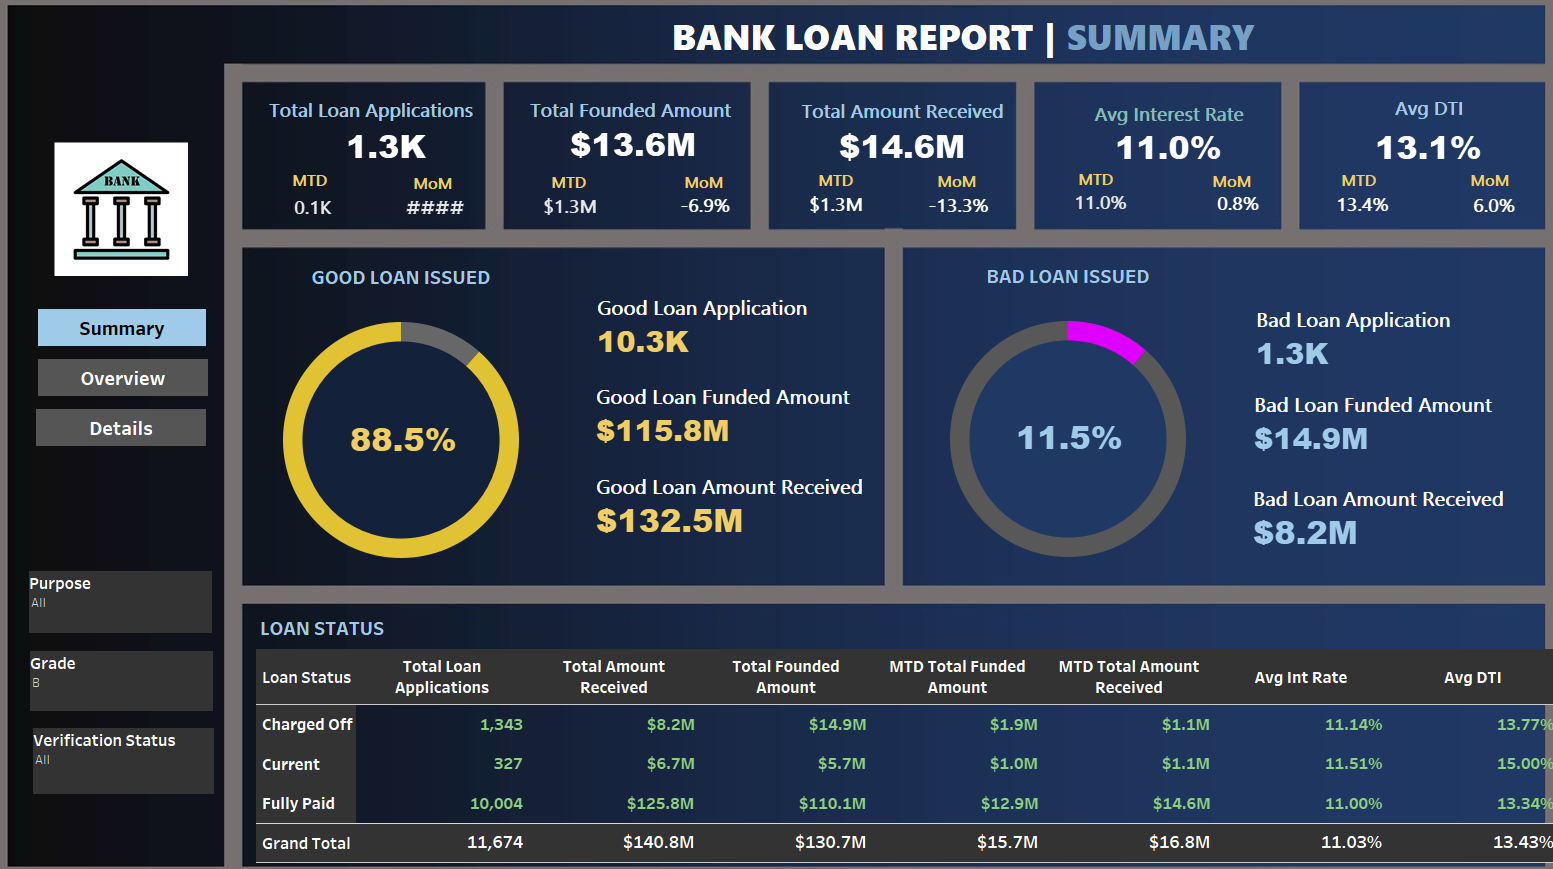

The page's visual inventory and layout, read from the dashboard file:
{"tool":"tableau","page":{"name":"SUMMARY","canvas":[1600,900],"ordinal":2},"visuals":[{"type":"image","param":"D:/SummerSlam/GitHub Projects/Bank-Loan/Images/Tableau Background 1.jpg","box":[8,8,1584,884]},{"type":"text","box":[683,21,715,57]},{"type":"worksheet","title":"Avg DTI","mark":"Automatic","box":[1372,102,142,77]},{"type":"worksheet","title":"Total Loan Applications","mark":"Automatic","box":[279,104,242,71]},{"type":"worksheet","title":"Total Founded Amount","mark":"Automatic","box":[540,104,216,68]},{"type":"worksheet","title":"Total Amount Received","mark":"Automatic","box":[785,105,263,70]},{"type":"worksheet","title":"Avg Interest Rate","mark":"Automatic","box":[1036,108,294,66]},{"type":"image","param":"C:/Users/Mohammed/Desktop/bank-vector-icon.jpg","box":[68,156,134,145]},{"type":"worksheet","title":"MoM Avg DTI","mark":"Automatic","box":[1453,176,111,85]},{"type":"text","box":[1079,180,61,25]},{"type":"text","box":[293,181,61,25]},{"type":"text","box":[819,181,61,25]},{"type":"worksheet","title":"MoM Avg INT Rate","mark":"Automatic","box":[1202,181,100,71]},{"type":"text","box":[1342,181,61,25]},{"type":"text","box":[1473,181,61,25]},{"type":"text","box":[940,182,61,25]},{"type":"text","box":[1215,182,61,25]},{"type":"text","box":[552,183,61,25]},{"type":"text","box":[687,183,61,25]},{"type":"text","box":[416,184,61,25]},{"type":"worksheet","title":"MoM Total Amount Received ","mark":"Automatic","box":[932,186,81,65]},{"type":"worksheet","title":"MTD Avg DTI","mark":"Automatic","box":[1315,186,123,63]},{"type":"worksheet","title":"MoM Total Loan Applications","mark":"Automatic","box":[413,187,73,72]},{"type":"worksheet","title":"MTD Total Loan Applications","mark":"Automatic","box":[273,189,108,64]},{"type":"worksheet","title":"MoM Total Funded Amount","mark":"Automatic","box":[666,189,107,60]},{"type":"worksheet","title":"MTD Total Amount Received","mark":"Automatic","box":[808,190,84,56]},{"type":"worksheet","title":"MTD Total Funded Amount","mark":"Automatic","box":[538,192,93,56]},{"type":"worksheet","title":"MTD Avg INT Rate","mark":"Automatic","box":[1069,198,92,35]},{"type":"worksheet","title":"Bad Loan Issued ","mark":"Pie","rows":["Calculation_467248493944659969","Calculation_467248493944659969"],"box":[932,270,300,325]},{"type":"worksheet","title":"Good Loan Issued","mark":"Pie","rows":["Calculation_467248493944659969","Calculation_467248493944659969"],"box":[265,271,300,325]},{"type":"worksheet","title":"Good Loan Application","mark":"Automatic","box":[603,297,300,75]},{"type":"worksheet","title":"Bad Loan Application ","mark":"Automatic","box":[1262,309,300,75]},{"type":"dashboard-object","box":[52,323,168,37]},{"type":"dashboard-object","box":[52,373,170,37]},{"type":"worksheet","title":"Good Loan Funded Amount","mark":"Automatic","box":[602,386,300,75]},{"type":"worksheet","title":"Bad Loan Funded Amount ","mark":"Automatic","box":[1260,394,300,75]},{"type":"worksheet","title":"Good Loan Application %","mark":"Automatic","box":[358,398,119,111]},{"type":"worksheet","title":"Bad Loan Application %","mark":"Automatic","box":[1025,398,117,106]},{"type":"dashboard-object","box":[50,423,170,37]},{"type":"worksheet","title":"Good Loan Amount Received","mark":"Automatic","box":[602,476,300,75]},{"type":"worksheet","title":"Bad Loan Amount Received ","mark":"Automatic","box":[1259,488,300,75]},{"type":"filter","title":"Good Loan Issued","param":"[federated.03rtkqy1etti0218mw5ic1l0aoeu].[none:purpose:nk]","box":[43,585,183,62]},{"type":"worksheet","title":"LOAN STATUS","mark":"Automatic","rows":["loan_status"],"box":[270,622,1304,255]},{"type":"filter","title":"Good Loan Issued","param":"[federated.03rtkqy1etti0218mw5ic1l0aoeu].[none:grade:nk]","box":[44,665,183,60]},{"type":"filter","title":"Good Loan Issued","param":"[federated.03rtkqy1etti0218mw5ic1l0aoeu].[none:verification_status:nk]","box":[47,742,181,66]}]}

Visuals, with their boxes in screenshot pixels (x1, y1, x2, y2), scaled from the page's 1600x900 canvas onto the 1553x869 screenshot:
image: 8 8 1545 861
text: 663 20 1357 75
"Avg DTI" worksheet: 1332 98 1470 173
"Total Loan Applications" worksheet: 271 100 506 169
"Total Founded Amount" worksheet: 524 100 734 166
"Total Amount Received" worksheet: 762 101 1017 169
"Avg Interest Rate" worksheet: 1006 104 1291 168
image: 66 151 196 291
"MoM Avg DTI" worksheet: 1410 170 1518 252
text: 1047 174 1107 198
text: 284 175 344 199
text: 795 175 854 199
"MoM Avg INT Rate" worksheet: 1167 175 1264 243
text: 1303 175 1362 199
text: 1430 175 1489 199
text: 912 176 972 200
text: 1179 176 1239 200
text: 536 177 595 201
text: 667 177 726 201
text: 404 178 463 202
"MoM Total Amount Received " worksheet: 905 180 983 242
"MTD Avg DTI" worksheet: 1276 180 1396 240
"MoM Total Loan Applications" worksheet: 401 181 472 250
"MTD Total Loan Applications" worksheet: 265 182 370 244
"MoM Total Funded Amount" worksheet: 646 182 750 240
"MTD Total Amount Received" worksheet: 784 183 866 238
"MTD Total Funded Amount" worksheet: 522 185 612 239
"MTD Avg INT Rate" worksheet: 1038 191 1127 225
"Bad Loan Issued " worksheet (Pie marks): 905 261 1196 575
"Good Loan Issued" worksheet (Pie marks): 257 262 548 575
"Good Loan Application" worksheet: 585 287 876 359
"Bad Loan Application " worksheet: 1225 298 1516 371
dashboard-object: 50 312 214 348
dashboard-object: 50 360 215 396
"Good Loan Funded Amount" worksheet: 584 373 876 445
"Bad Loan Funded Amount " worksheet: 1223 380 1514 453
"Good Loan Application %" worksheet: 347 384 463 491
"Bad Loan Application %" worksheet: 995 384 1108 487
dashboard-object: 49 408 214 444
"Good Loan Amount Received" worksheet: 584 460 876 532
"Bad Loan Amount Received " worksheet: 1222 471 1513 544
"Good Loan Issued" filter: 42 565 219 625
"LOAN STATUS" worksheet: 262 601 1528 847
"Good Loan Issued" filter: 43 642 220 700
"Good Loan Issued" filter: 46 716 221 780
